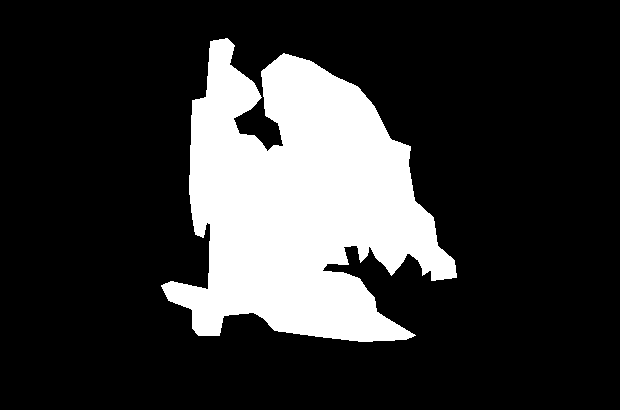type2: (160, 38, 460, 344)
